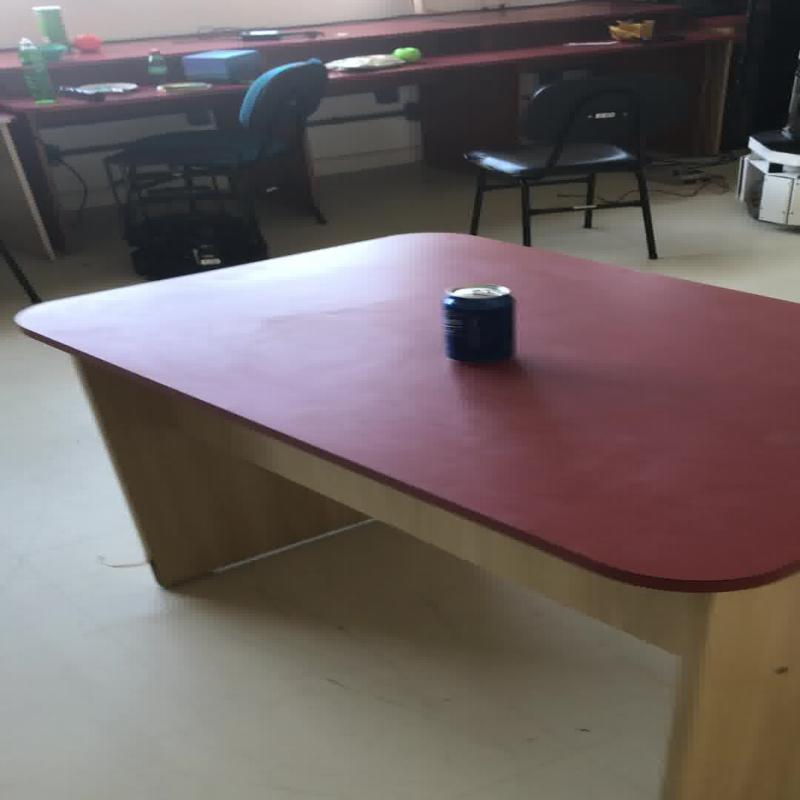tonic: (438, 283, 515, 363), (30, 5, 69, 50), (144, 47, 167, 85)
